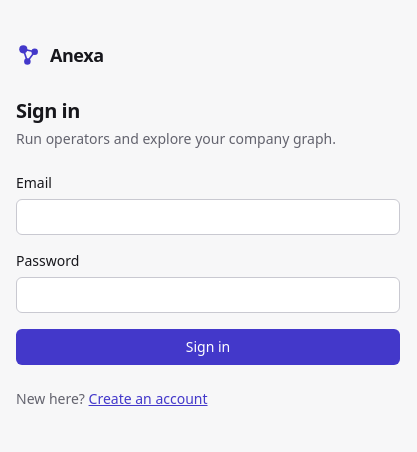
Scenario: authentication › shows the server's message for wrong credentials and stays on the form
Type "ada@acme.com" into the field labelled "Email".
click(208, 217); type("ada@acme.com")  # box [16,199,400,235]
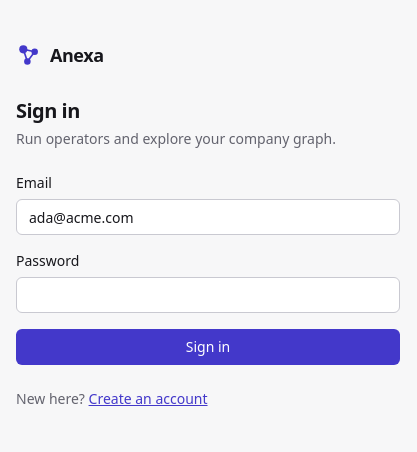
Type "wrong-password" into the password field labelled "Password".
click(208, 295); type("wrong-password")  # box [16,277,400,313]
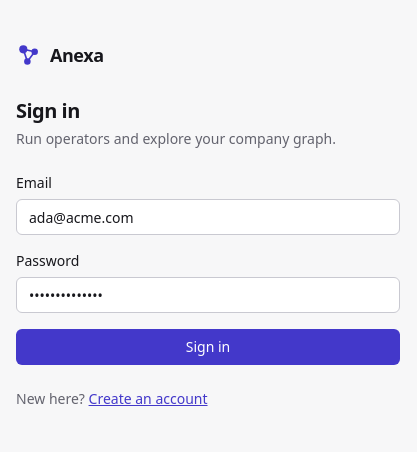
Click the button "Sign in".
click(208, 347)  # box [16,329,400,365]
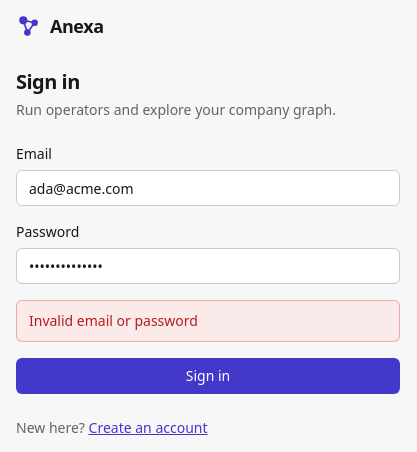
expect the heading "Sign in" is shown: met, box [16,68,80,95]
expect the message reads "Invalid email or password": met, box [29,311,198,330]
